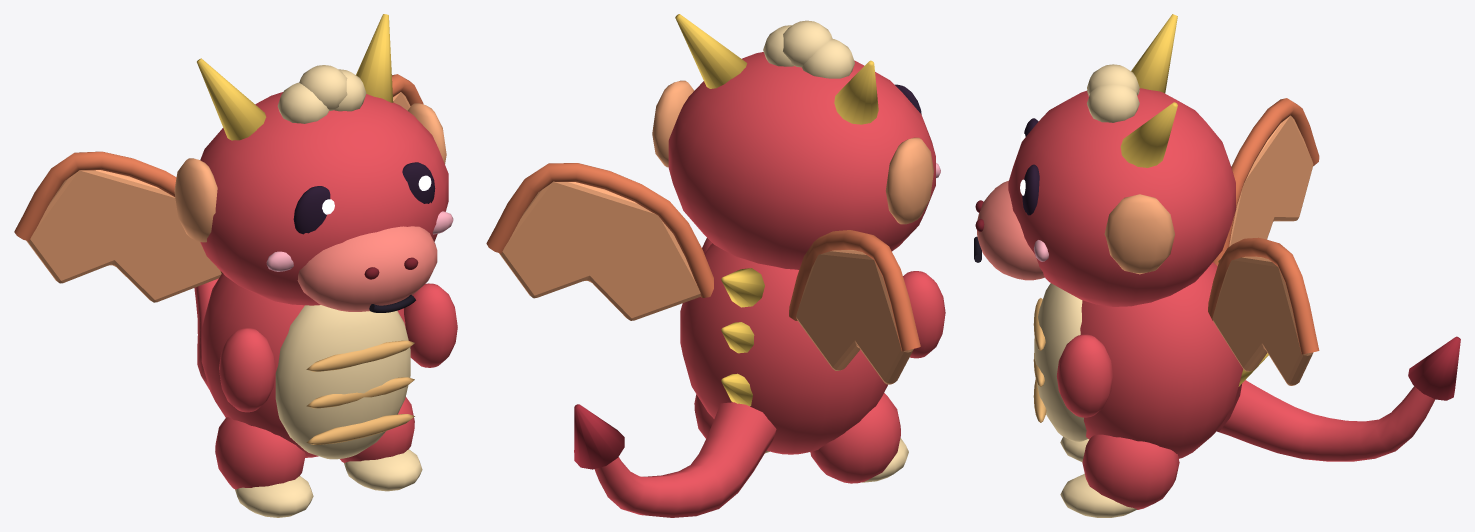
The model's file is ember.glb.
The picture shows the model from 3 angles, left to right: view 1: azimuth 30°, elevation 25°; view 2: azimuth 150°, elevation 25°; view 3: azimuth 270°, elevation 25°; orthographic projection. The views are drawn at different scales.
Parts seen in each view (by area): view 1: ember_Skull, ember_Membrane_L, ember_BellyPlate, ember_Snout, ember_Torso, ember_Thigh_L, ember_ArmScale_L, ember_WingBone_L, ember_ArmScale_R, ember_Fin_L, ember_Horn_L, ember_Foot_L (+14 smaller); view 2: ember_Skull, ember_Torso, ember_Membrane_R, ember_TailScale, ember_Membrane_L, ember_WingBone_R, ember_Thigh_L, ember_WingBone_L, ember_Fin_L, ember_ArmScale_L, ember_TailTip, ember_Horn_R (+9 smaller); view 3: ember_Skull, ember_Torso, ember_TailScale, ember_Membrane_R, ember_Membrane_L, ember_Thigh_R, ember_BellyPlate, ember_Fin_R, ember_ArmScale_R, ember_Snout, ember_WingBone_R, ember_WingBone_L (+7 smaller).
Part boxes in pixels (x1=…): ember_Skull: x1=200, y1=92, x2=448, y2=305; ember_Membrane_L: x1=26, y1=170, x2=221, y2=302; ember_BellyPlate: x1=275, y1=305, x2=410, y2=459; ember_Snout: x1=297, y1=226, x2=437, y2=311; ember_Torso: x1=201, y1=273, x2=405, y2=457; ember_Thigh_L: x1=215, y1=417, x2=305, y2=489; ember_ArmScale_L: x1=219, y1=328, x2=275, y2=412; ember_WingBone_L: x1=14, y1=151, x2=222, y2=273; ember_ArmScale_R: x1=404, y1=283, x2=457, y2=367; ember_Fin_L: x1=174, y1=158, x2=217, y2=242; ember_Horn_L: x1=197, y1=58, x2=266, y2=140; ember_Foot_L: x1=235, y1=476, x2=313, y2=517; ember_Skull: x1=668, y1=52, x2=935, y2=269; ember_Torso: x1=680, y1=243, x2=887, y2=454; ember_Membrane_R: x1=499, y1=181, x2=701, y2=320; ember_TailScale: x1=594, y1=402, x2=776, y2=517; ember_Membrane_L: x1=796, y1=250, x2=913, y2=384; ember_WingBone_R: x1=486, y1=163, x2=713, y2=297; ember_Thigh_L: x1=810, y1=393, x2=900, y2=483; ember_WingBone_L: x1=789, y1=230, x2=920, y2=351; ember_Fin_L: x1=885, y1=137, x2=933, y2=224; ember_ArmScale_L: x1=903, y1=271, x2=945, y2=358; ember_TailTip: x1=574, y1=404, x2=624, y2=469; ember_Horn_R: x1=675, y1=14, x2=747, y2=88; ember_Skull: x1=1008, y1=88, x2=1235, y2=306; ember_Torso: x1=1080, y1=262, x2=1242, y2=458; ember_TailScale: x1=1216, y1=380, x2=1435, y2=461; ember_Membrane_R: x1=1212, y1=256, x2=1313, y2=385; ember_Membrane_L: x1=1229, y1=115, x2=1313, y2=246; ember_Thigh_R: x1=1082, y1=434, x2=1179, y2=509; ember_BellyPlate: x1=1034, y1=283, x2=1087, y2=441; ember_Fin_R: x1=1104, y1=194, x2=1174, y2=274; ember_ArmScale_R: x1=1056, y1=334, x2=1113, y2=417; ember_Snout: x1=977, y1=180, x2=1044, y2=280; ember_WingBone_R: x1=1208, y1=237, x2=1319, y2=354; ember_WingBone_L: x1=1213, y1=98, x2=1319, y2=265.
Bounding box in the file's own units: 0.5358 × 0.5339 × 0.5507.
